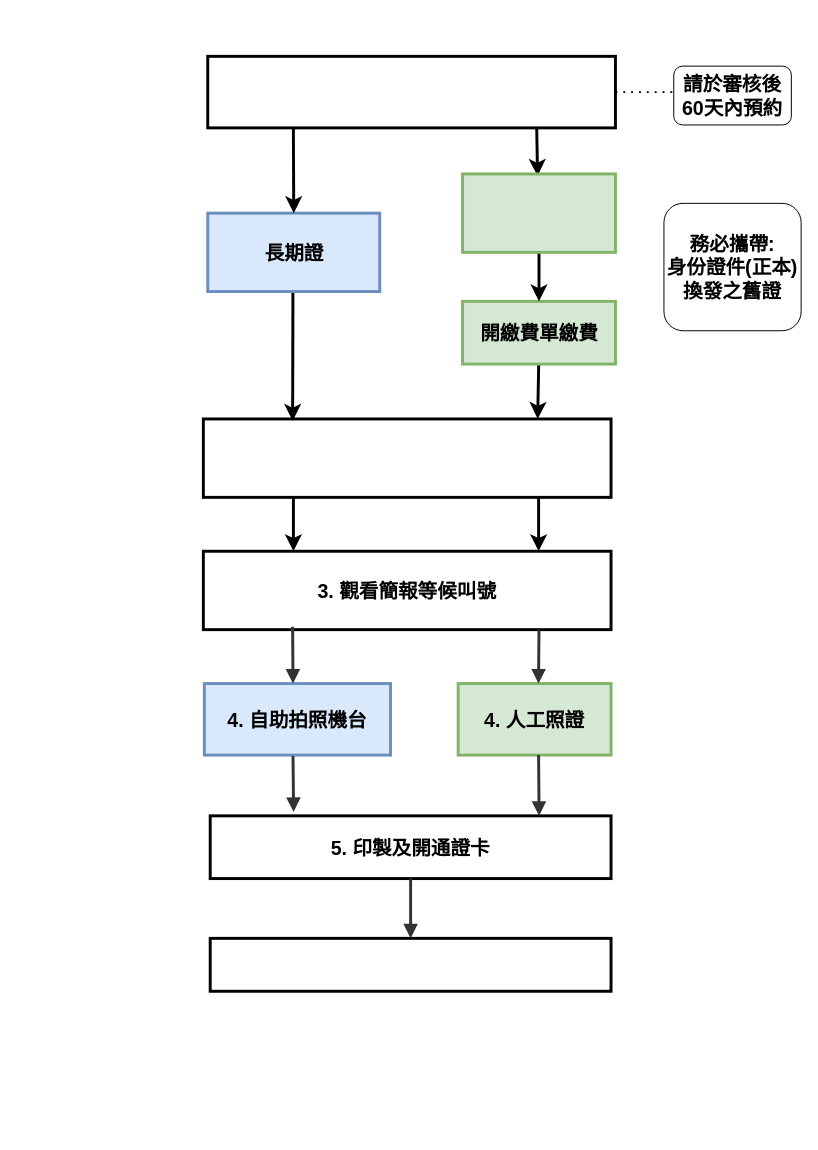
Some shapes in this 818 by 1150 pixel diagram are drawn without their labels. Here are the shapes that lost their labels. From the top down, the centre of each, then its label:
At pixel 411 91: "1. 可拍照通知 至通行證線上作業平台 線上預約拍照".
At pixel 538 212: "月份施工證 月份工作證".
At pixel 406 457: "2. 至 報到機 取得 報到號碼".
At pixel 410 964: "6. 唱名取證".
